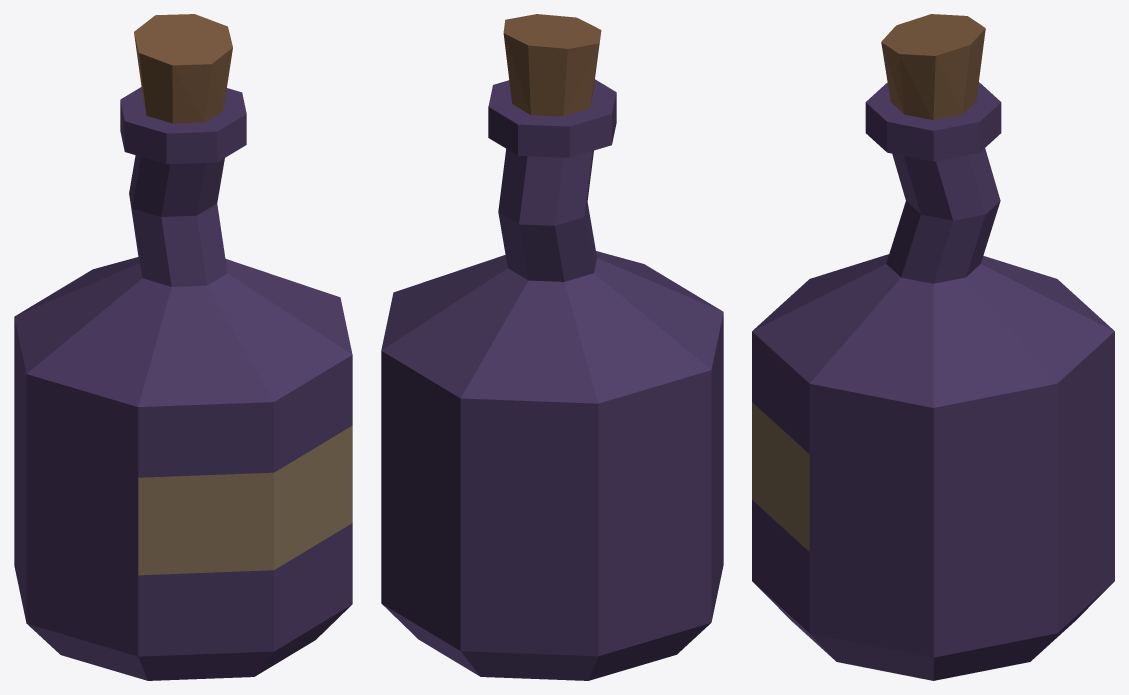
The model's file is SM_Item_Potion_05.gltf.
3 renders of one model, left to right at view 1: azimuth 30°, elevation 25°; view 2: azimuth 150°, elevation 25°; view 3: azimuth 270°, elevation 25°, orthographic.
Parts seen in each view (by area): view 1: SM_Item_Potion_05; view 2: SM_Item_Potion_05; view 3: SM_Item_Potion_05.
Part boxes in pixels (x1,y1,x2,y2): SM_Item_Potion_05: (14,14,352,680); SM_Item_Potion_05: (381,14,723,680); SM_Item_Potion_05: (752,14,1114,680).
Size of the model in its own units: 0.2418 by 0.435 by 0.2418.
1 material, 1 textured.
